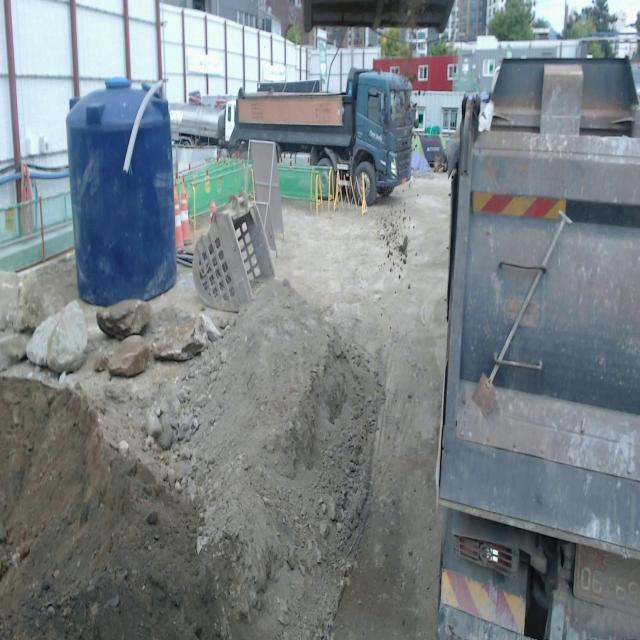stone: (26, 300, 88, 373), (0, 271, 46, 331), (152, 315, 208, 361), (97, 299, 153, 340), (107, 335, 151, 377), (0, 334, 29, 370)
white-sand: (0, 180, 449, 639)
